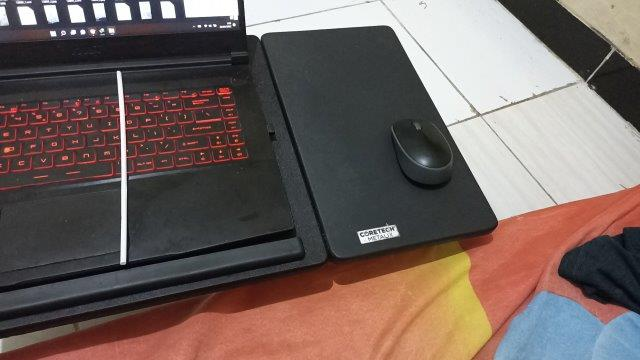sedotan: (116, 71, 128, 264)
